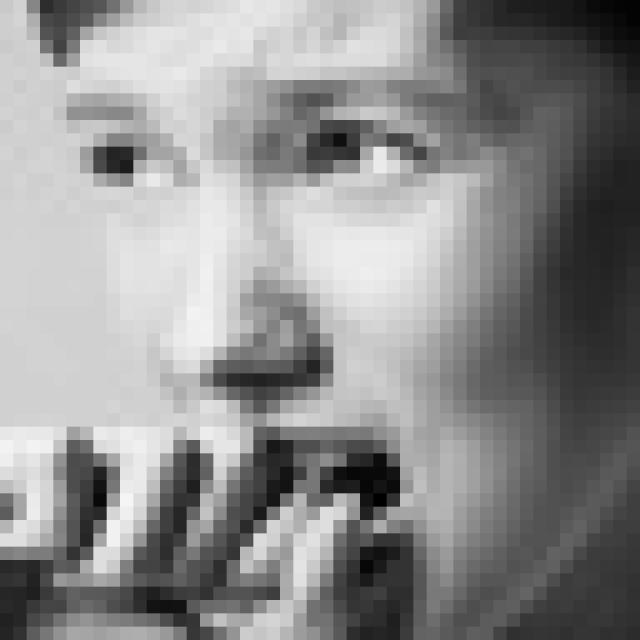fear: (65, 54, 517, 557)
